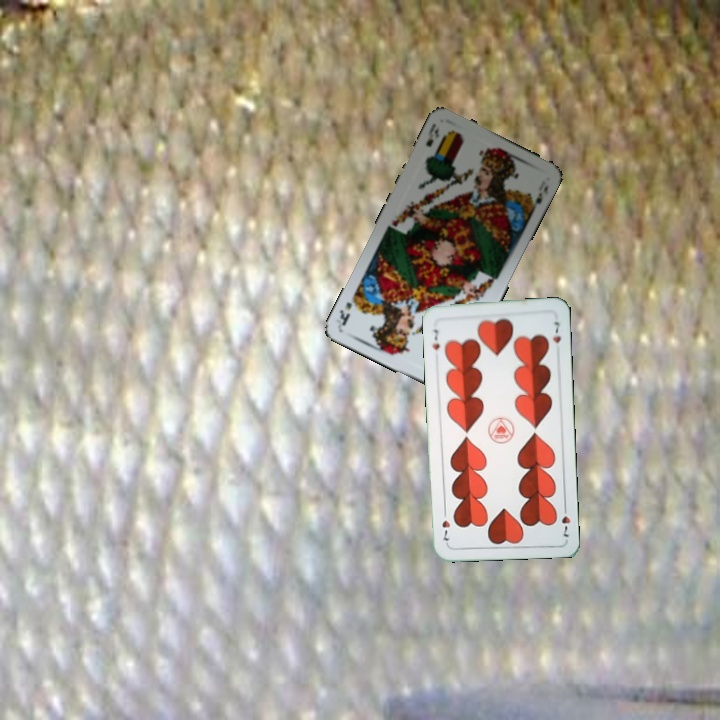EK: (422, 119, 442, 149)
H7: (558, 500, 573, 541), (428, 325, 442, 352)
